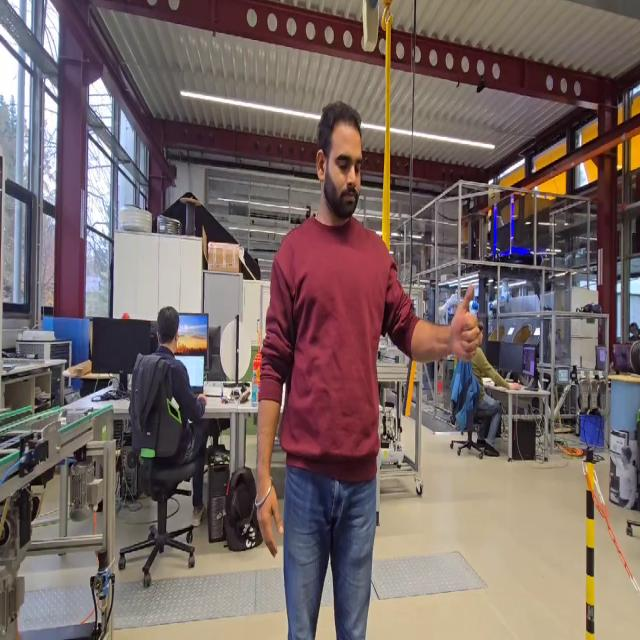thumbs_up: (446, 279, 486, 369)
